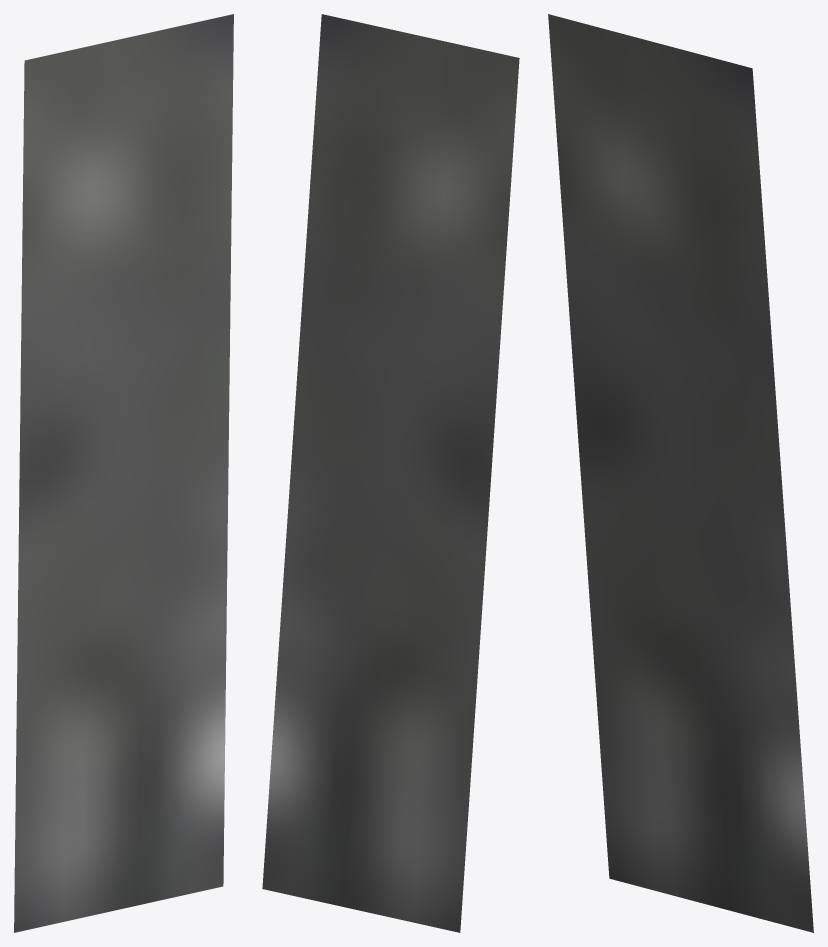
Rendered from Shotgun_PSX_LoadingPort.fbx.
The picture shows the model from 3 angles, left to right: view 1: azimuth 30°, elevation 25°; view 2: azimuth 150°, elevation 25°; view 3: azimuth 330°, elevation 25°; orthographic projection. The views are drawn at different scales.
Visible parts, largest first — view 1: IntakePort; view 2: IntakePort; view 3: IntakePort.
Boxes of the visible parts, x1,y1,x2,y2 form: IntakePort: (14,14,233,932); IntakePort: (262,14,519,932); IntakePort: (548,14,813,932).
Size of the model in its own units: 16.79 by 61.99 by 4.52.
